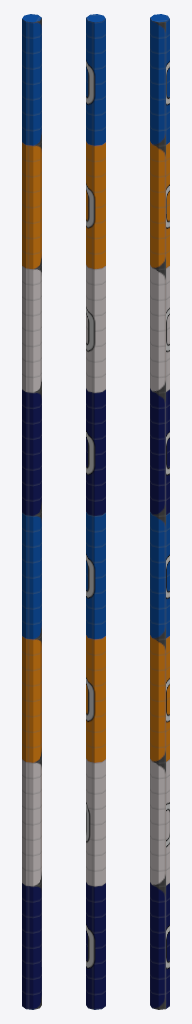
File: poll.obj
3 renders of one model, left to right at view 1: azimuth 30°, elevation 25°; view 2: azimuth 150°, elevation 25°; view 3: azimuth 330°, elevation 25°, orthographic.
Parts seen in each view (by area): view 1: Poll; view 2: Poll; view 3: Poll.
Part boxes in pixels (x1,y1,x2,y2): Poll: (22,14,41,1009); Poll: (86,14,105,1009); Poll: (150,14,169,1009).
Size of the model in its own units: 1.85 by 109 by 1.85.
Materials: 1 (1 with a texture image).
